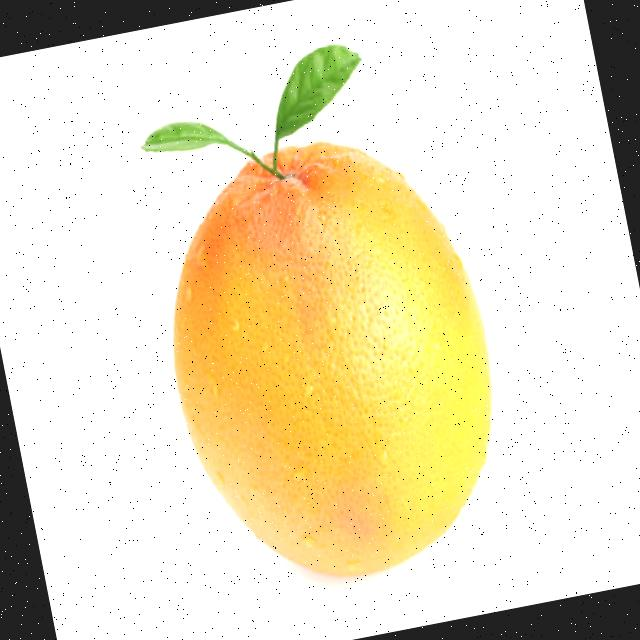Ripe: (130, 108, 528, 610)
